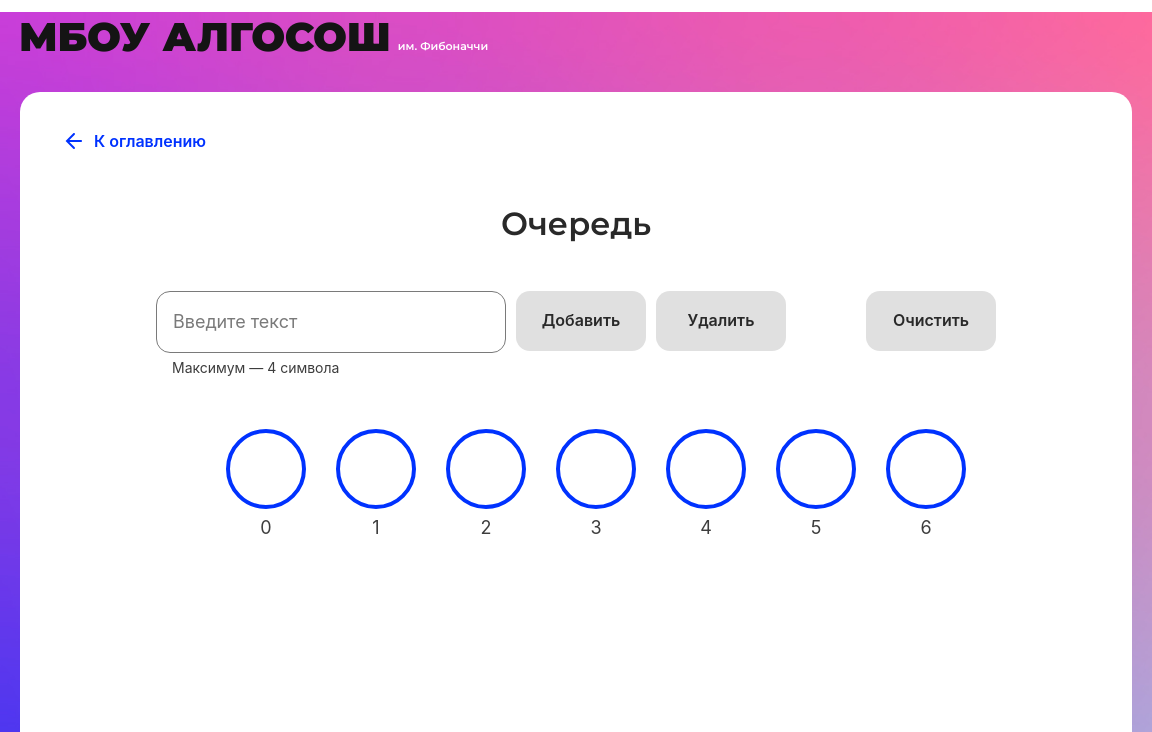
it: queue test › Adding to the queue works and the head and tail cursors are set correctly
Type "1" into the field with placeholder "Введите текст".
click(331, 322); type("1")  # box top-left (156, 291), bottom-right (506, 353)
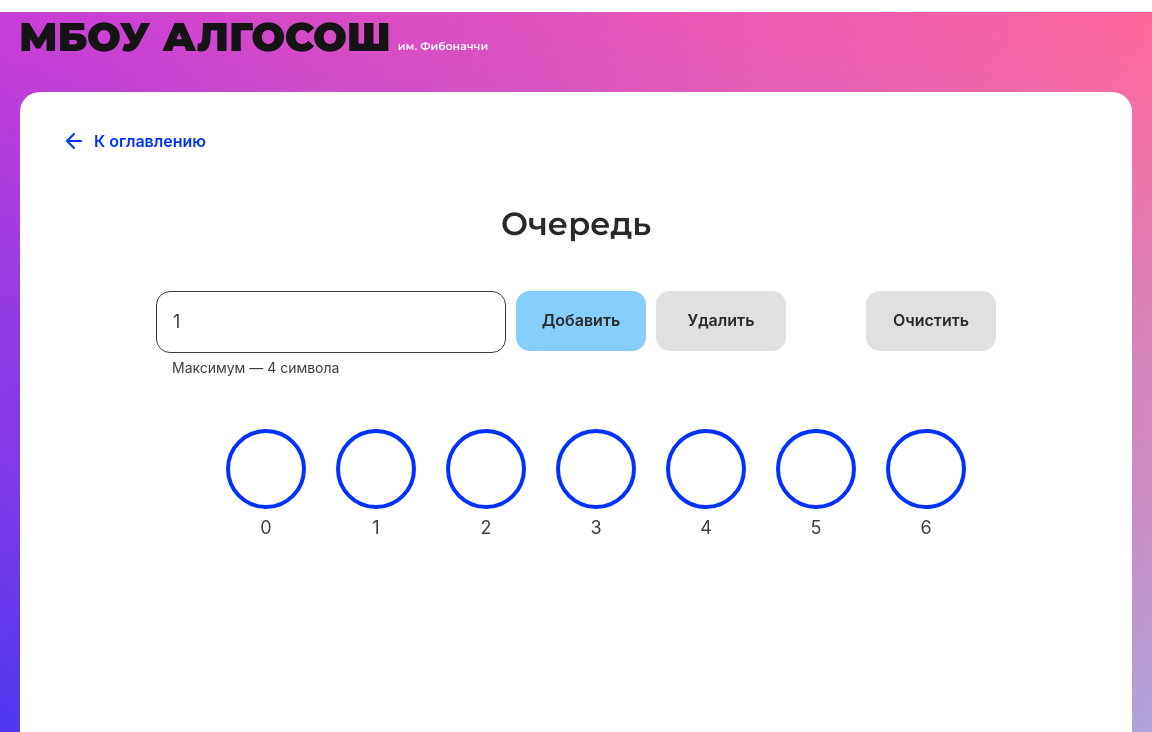
Click the submit button.
click(581, 321)  # box top-left (516, 291), bottom-right (646, 351)
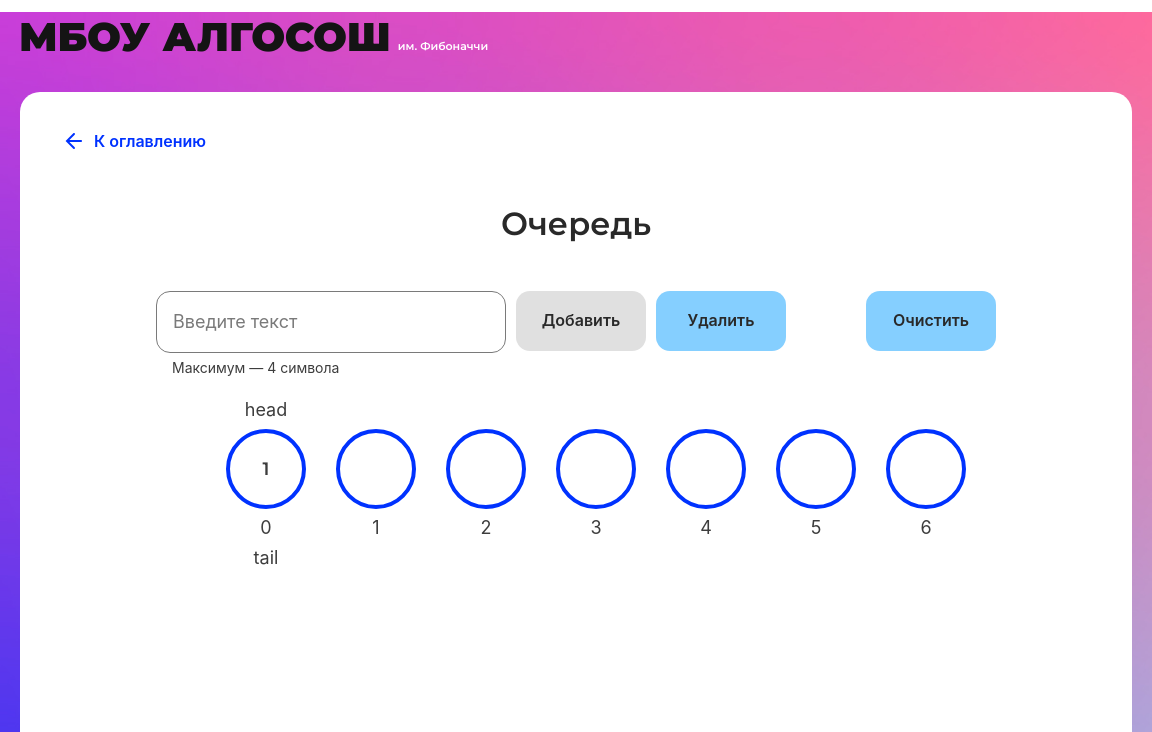
Result: the text "1" below "head" is shown at top-left (263, 458), bottom-right (270, 480)
Result: the text "head" is shown at top-left (245, 399), bottom-right (287, 421)
Result: the text "tail" is shown at top-left (254, 547), bottom-right (278, 569)
Type "2" into the field with placeholder "Введите текст".
click(331, 322); type("2")  # box top-left (156, 291), bottom-right (506, 353)
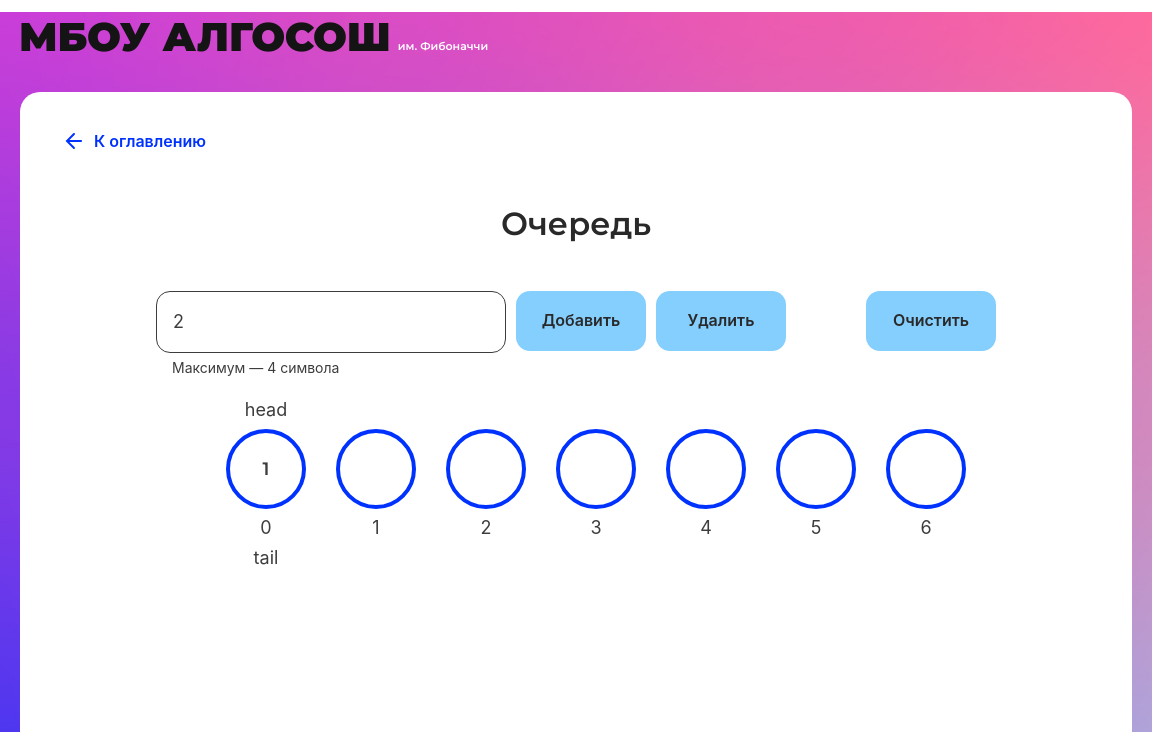
Click the submit button.
click(581, 321)  # box top-left (516, 291), bottom-right (646, 351)
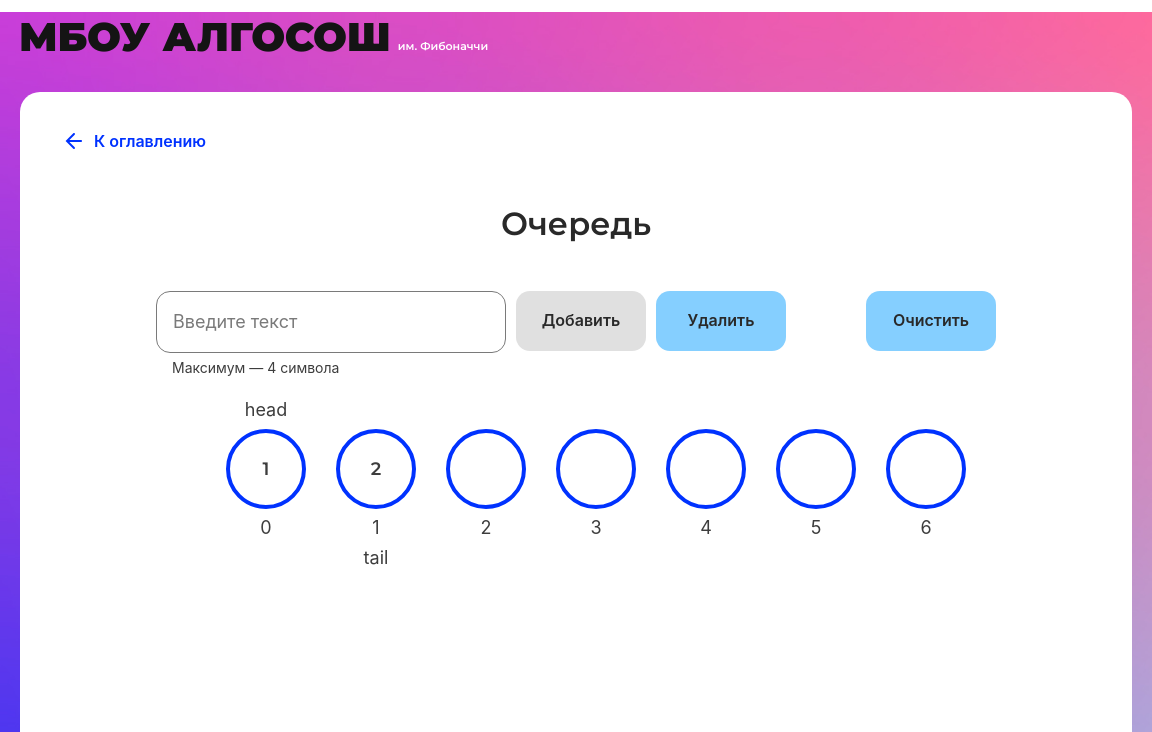
Result: the text "tail" is shown at top-left (364, 547), bottom-right (388, 569)
Result: the text "head" is shown at top-left (245, 399), bottom-right (287, 421)
Result: the 1st text "2" is shown at top-left (371, 458), bottom-right (381, 480)
Type "3" into the field with placeholder "Введите текст".
click(331, 322); type("3")  # box top-left (156, 291), bottom-right (506, 353)
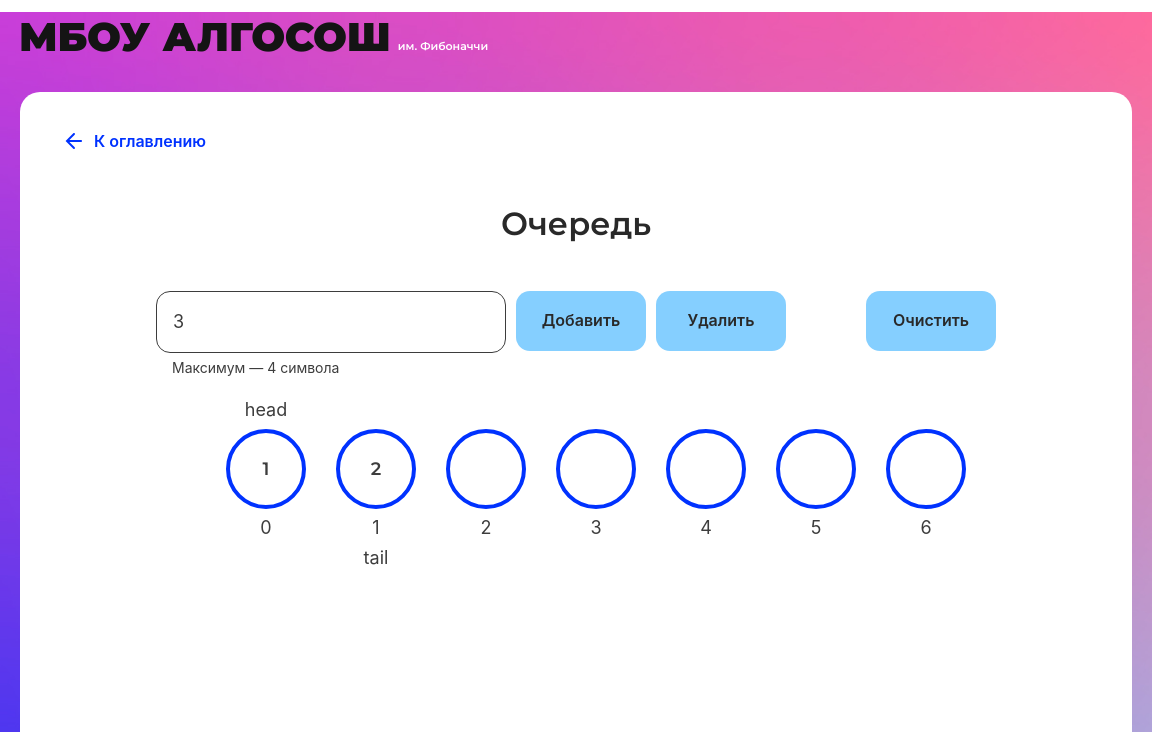
Click the submit button.
click(581, 321)  # box top-left (516, 291), bottom-right (646, 351)
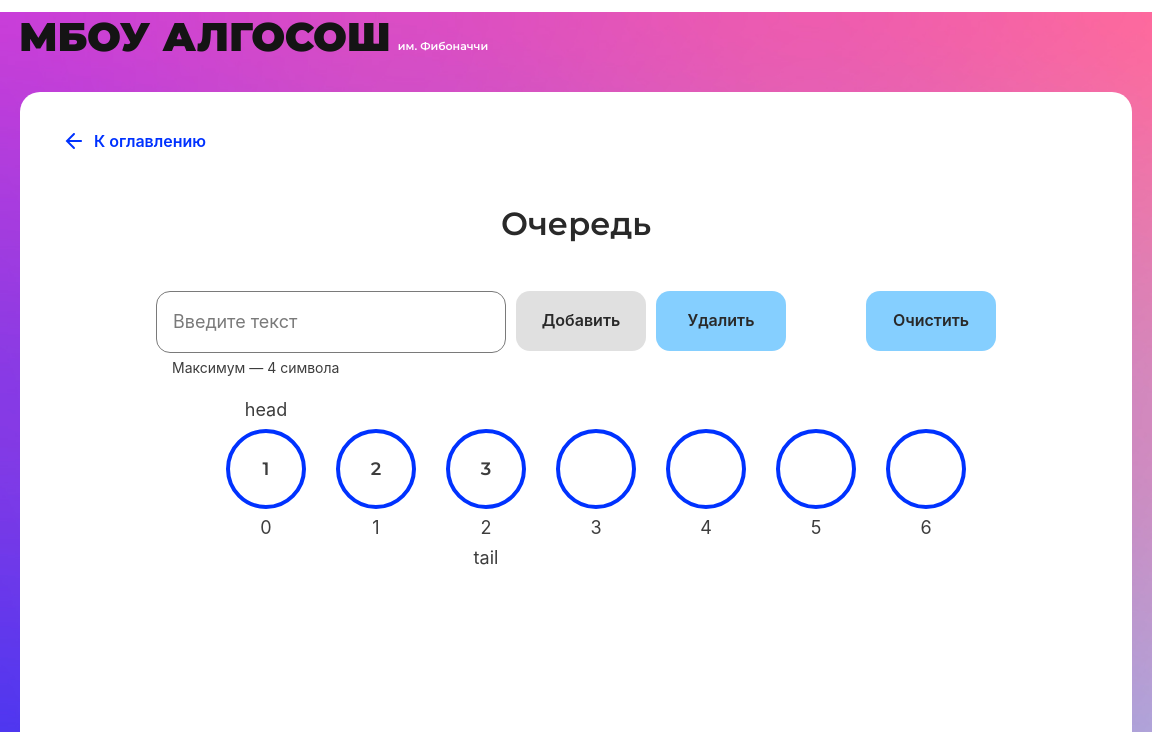
Result: the text "tail" is shown at top-left (474, 547), bottom-right (498, 569)
Result: the text "head" is shown at top-left (245, 399), bottom-right (287, 421)
Result: the 1st text "3" is shown at top-left (481, 458), bottom-right (491, 480)
